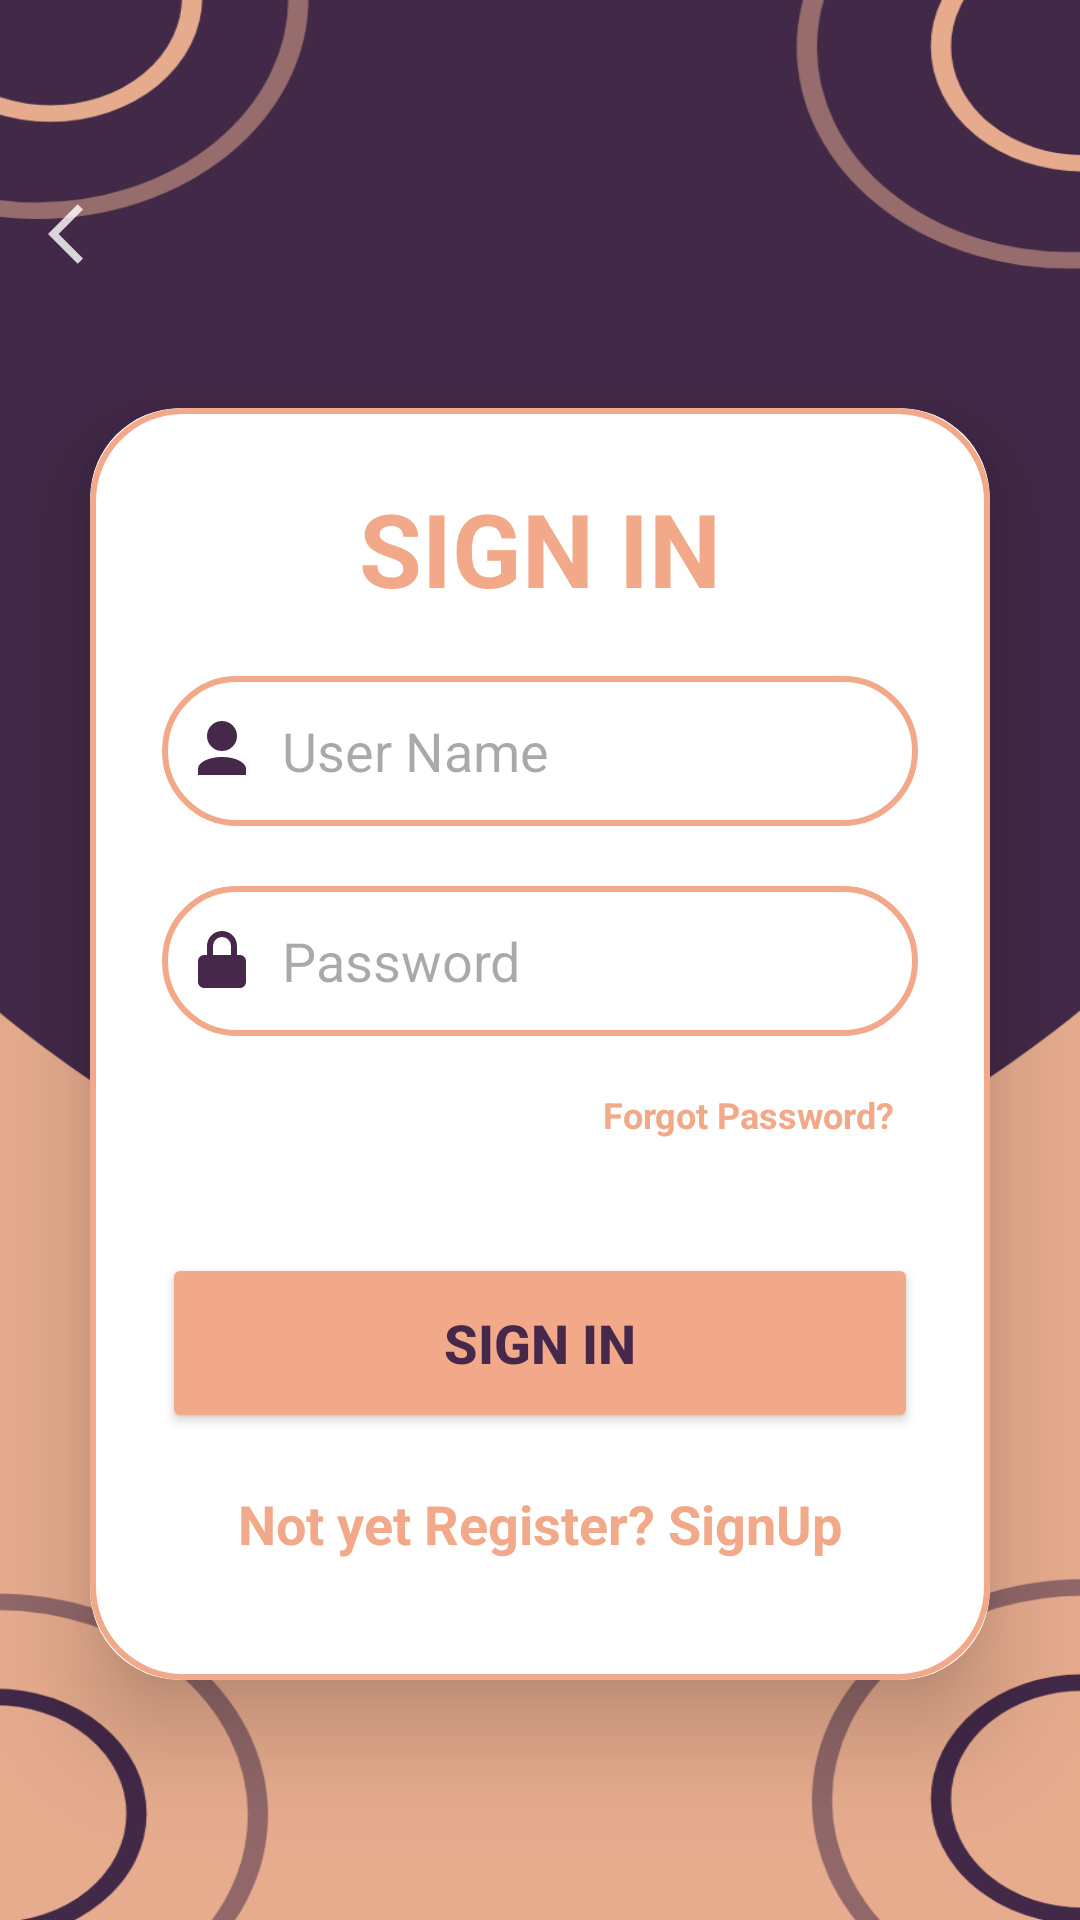

Locate icon controls on the screen. Image size 1080×1920, boxes as box=[x1, y1, x2, y2].
arrow back: box=[48, 198, 120, 264]
